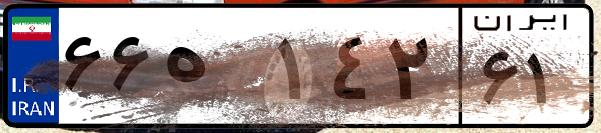1: (270, 28, 330, 110), (525, 38, 570, 115)
2: (385, 28, 445, 110)
4: (330, 28, 385, 110)
6: (57, 26, 110, 100), (475, 38, 525, 113), (110, 28, 158, 98)
ه: (158, 20, 270, 120)
